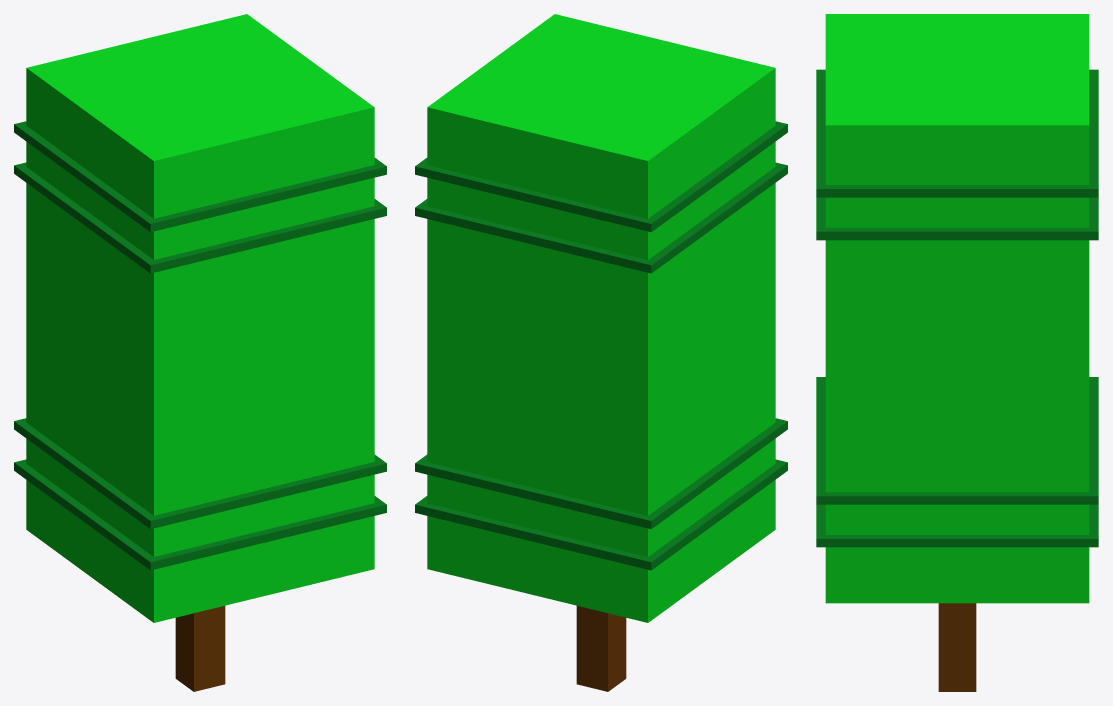
File: Arvore1.obj
3 renders of one model, left to right at view 1: azimuth 30°, elevation 25°; view 2: azimuth 150°, elevation 25°; view 3: azimuth 270°, elevation 25°, orthographic. The views are drawn at different scales.
Visible parts, largest first — view 1: Arvore1; view 2: Arvore1; view 3: Arvore1.
Boxes of the visible parts, bbox=[...] form: Arvore1: bbox=[14, 14, 386, 691]; Arvore1: bbox=[415, 14, 787, 691]; Arvore1: bbox=[816, 14, 1098, 691].
Size of the model in its own units: 30 by 72 by 30.
Materials: 1 (1 with a texture image).
